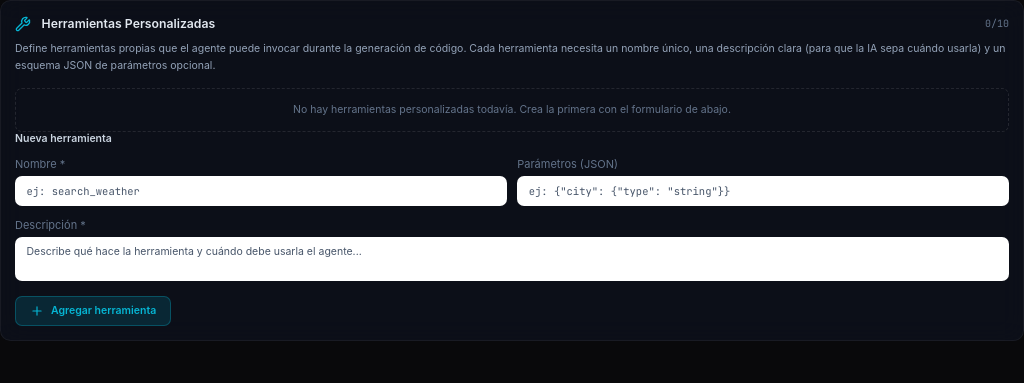
Test case: CustomToolsPanel › rechaza nombre inválido con error visible
Type "Mi Tool!" into the field with test id "tool-name-input" at (261, 191), box [15,176,507,206]
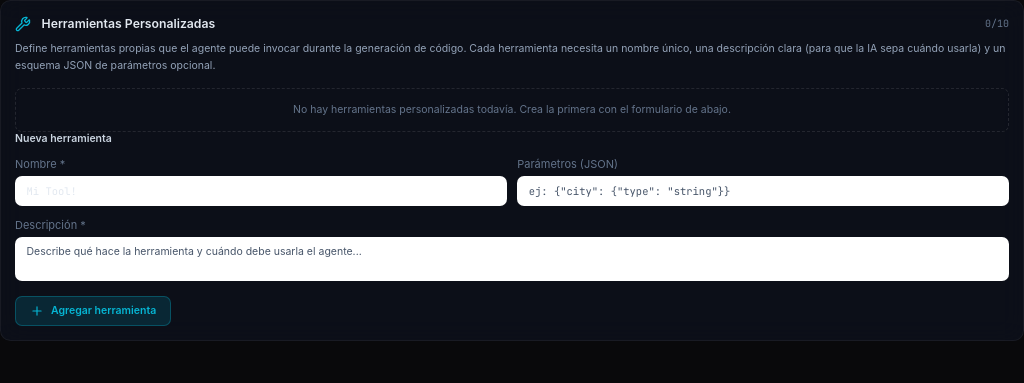
Replace the text in the text box with test id "tool-description-input" with "Descripción válida" at (512, 259), box [15,237,1009,281]
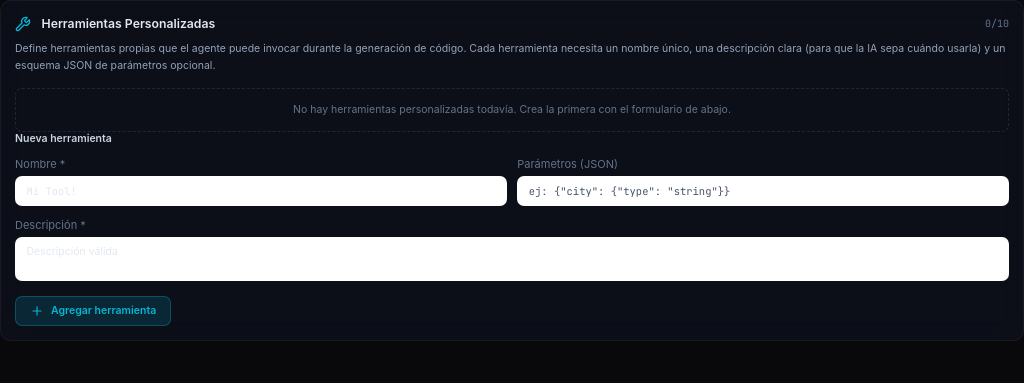
Click the button with test id "tool-submit-btn" at (93, 311), box [15,296,171,326]
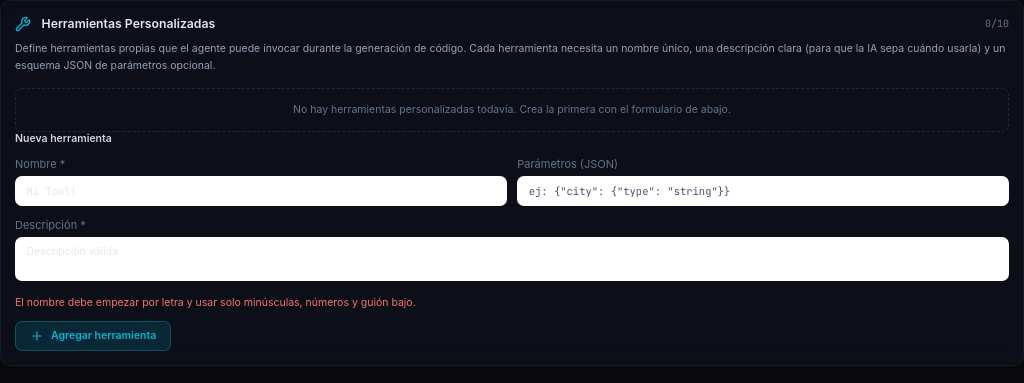
Check: the message "El nombre debe empezar por letra y usar solo minúsculas, números y guión bajo." is shown, box [15,296,416,309]
